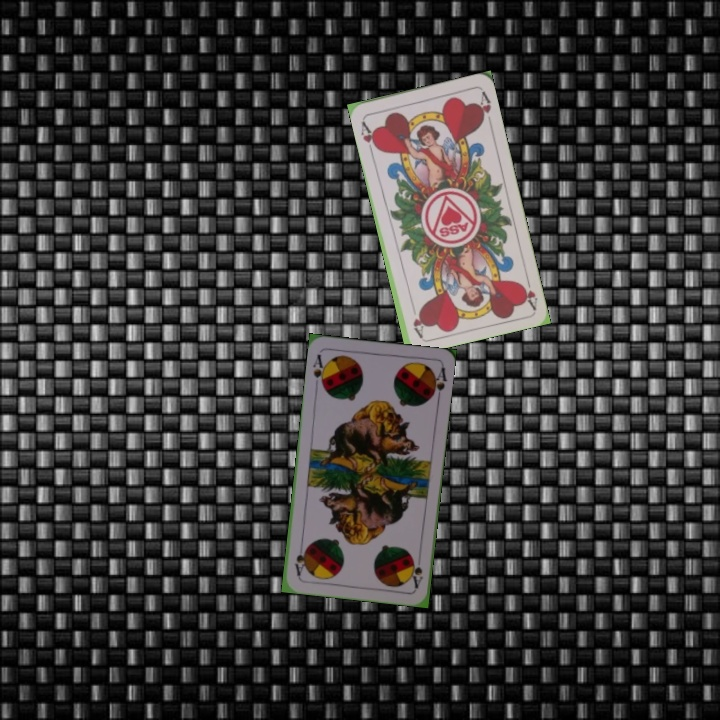HA: (357, 115, 381, 155), (517, 270, 540, 311)
SA: (309, 350, 329, 391), (407, 554, 425, 591)
